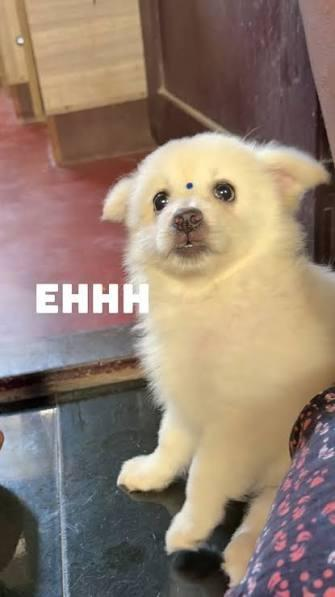puppy-dog: (100, 131, 335, 584)
